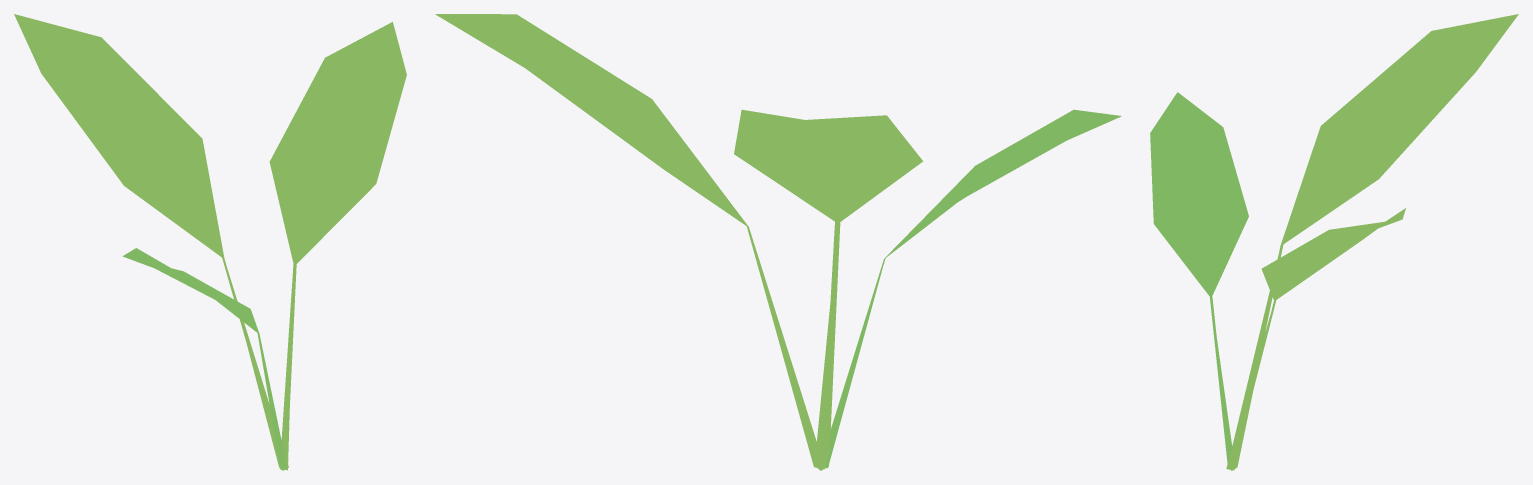
Rendered from Plant_j_TwoS_08.fbx.
3 renders of one model, left to right at view 1: azimuth 30°, elevation 25°; view 2: azimuth 150°, elevation 25°; view 3: azimuth 270°, elevation 25°, orthographic. The views are drawn at different scales.
Parts seen in each view (by area): view 1: Plant_j_TwoS_08; view 2: Plant_j_TwoS_08; view 3: Plant_j_TwoS_08.
Part boxes in pixels (box(x1,y1,x2,y2)): Plant_j_TwoS_08: box(14, 14, 406, 470); Plant_j_TwoS_08: box(435, 14, 1121, 470); Plant_j_TwoS_08: box(1150, 14, 1518, 470).
Size of the model in its own units: 0.2749 by 0.2642 by 0.2262.
